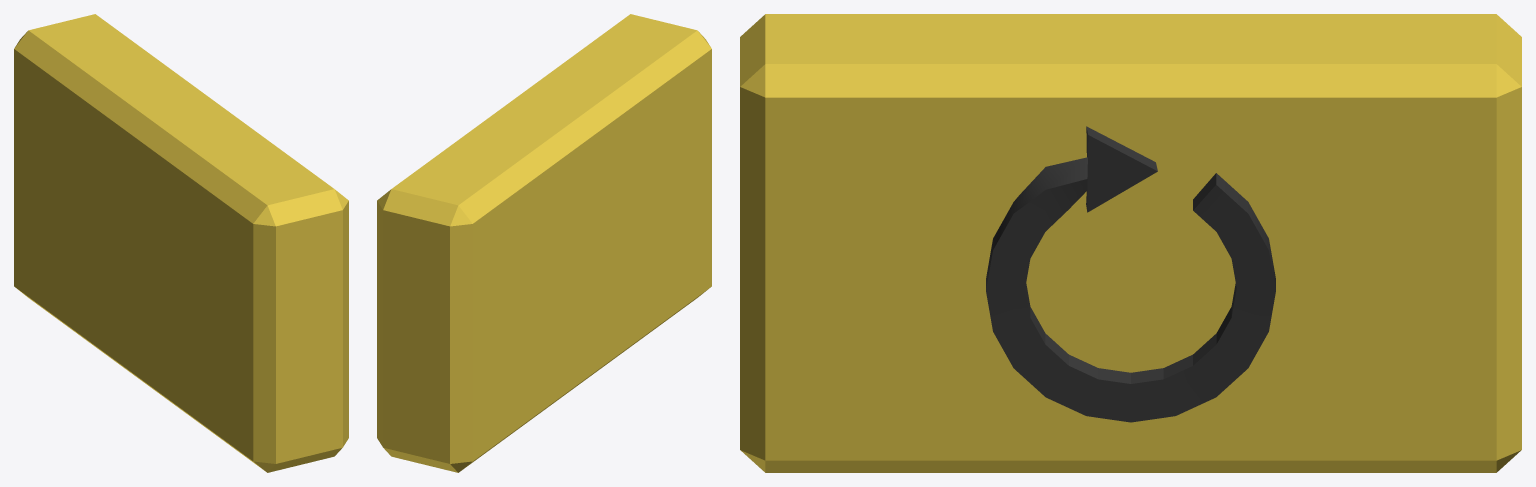
The model's file is replay button.fbx.
3 views of the same model, side by side, from view 1: azimuth 30°, elevation 25°; view 2: azimuth 150°, elevation 25°; view 3: azimuth 270°, elevation 25° (orthographic). The views are drawn at different scales.
Visible parts, largest first — view 1: button1; view 2: button1; view 3: button1.
Part boxes in pixels (x1=…): button1: x1=14, y1=14, x2=348, y2=472; button1: x1=377, y1=14, x2=711, y2=472; button1: x1=740, y1=14, x2=1521, y2=472.
Bounding box in the file's own units: 25.09 × 57.32 × 99.29.
